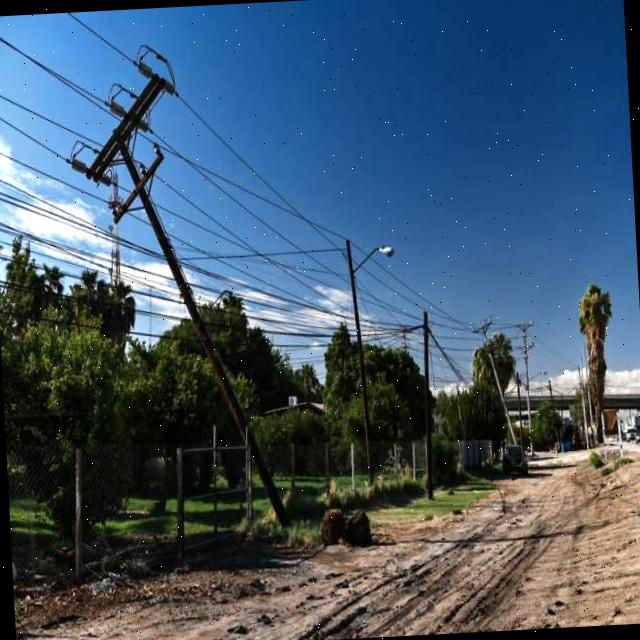Broken Pole: (65, 60, 291, 526)
